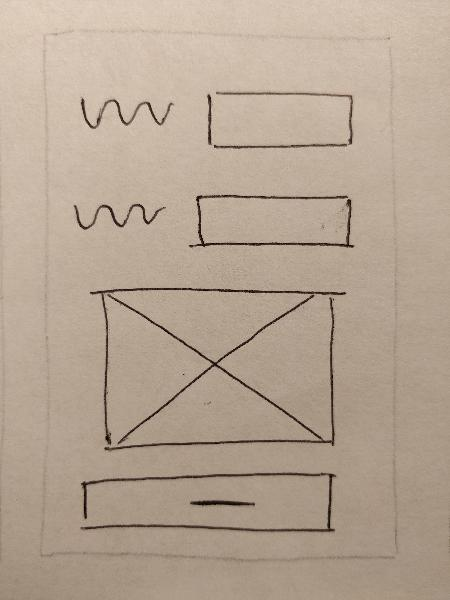button: (72, 466, 344, 538)
image: (80, 277, 353, 456)
text: (75, 83, 187, 149), (63, 185, 172, 241)
text_input: (182, 185, 366, 259), (198, 81, 366, 162)
